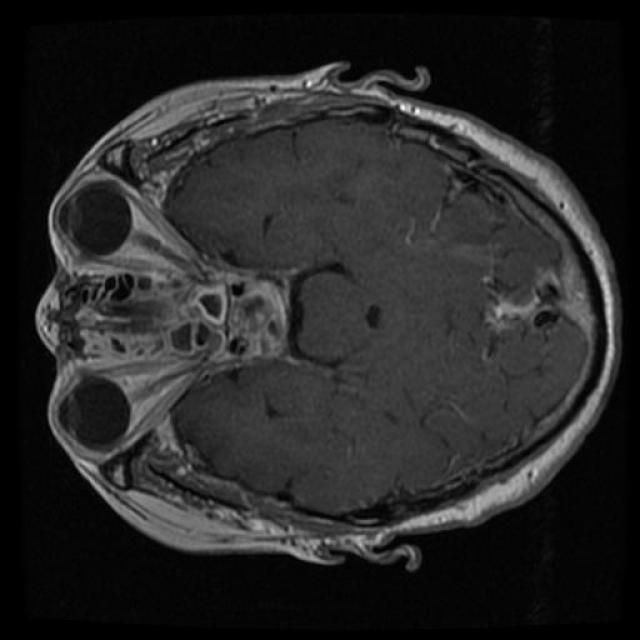Pituitary: (222, 274, 287, 361)
